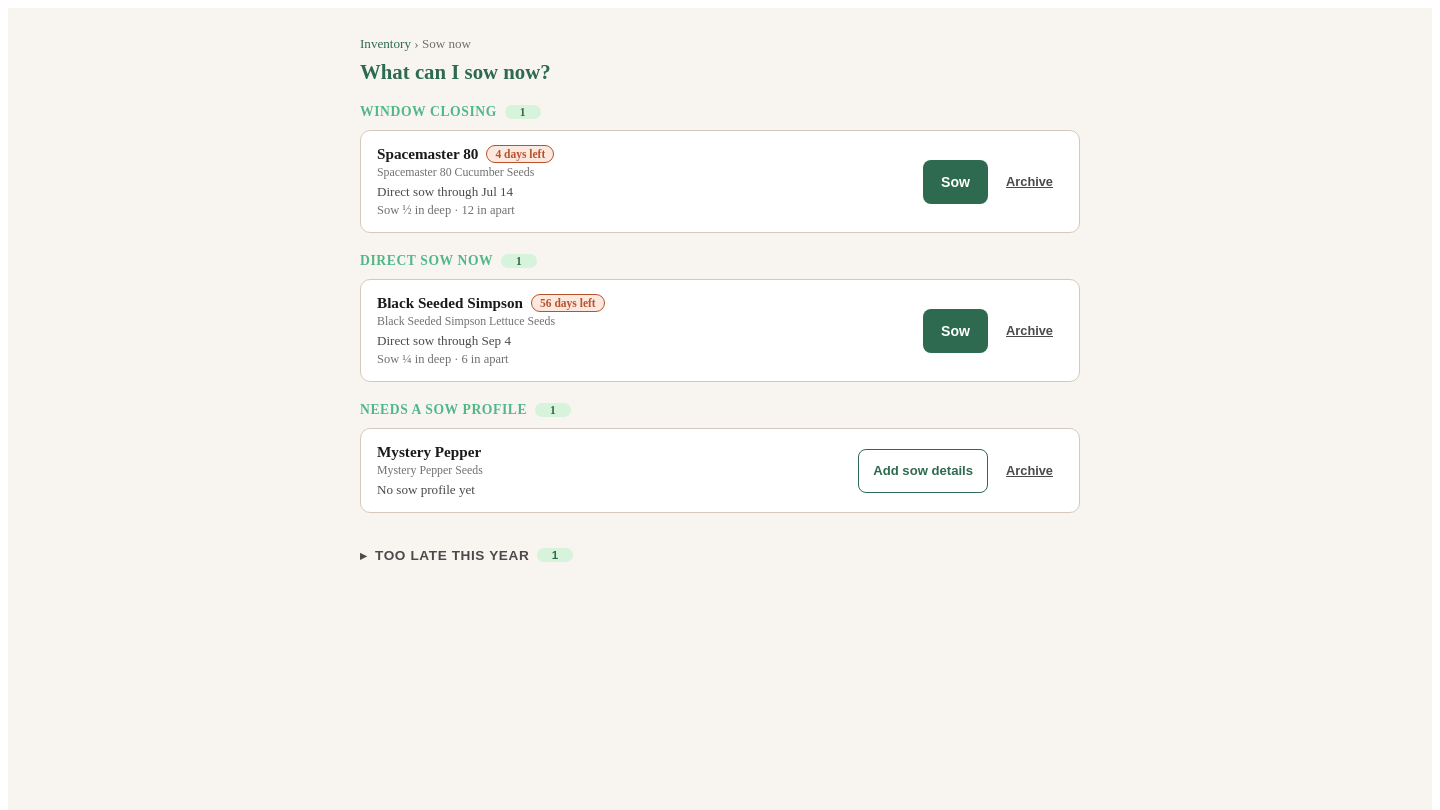
Test: SowNow — Sow sheet embeds the canonical PlantingEditor (orphan-safe) › opens the pre-seeded editor and POSTs /api/plants with a REAL project_id (never null)
Click the button with aria-label "Sow Spacemaster 80". click: [956, 182]
box: [923,160,988,204]
(page scrolled)
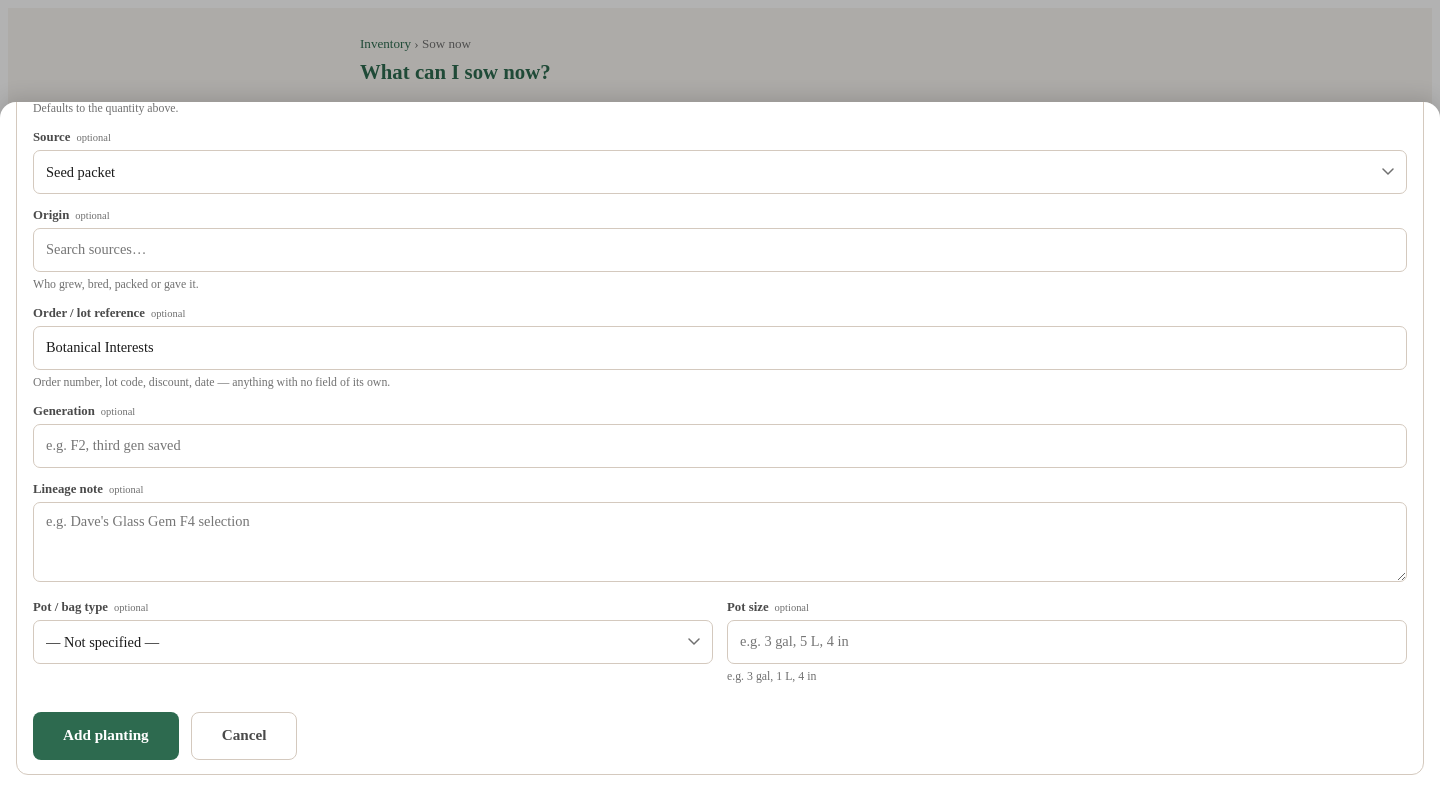
Click the button "Add planting". click: [106, 736]
box: [33,712,179,760]
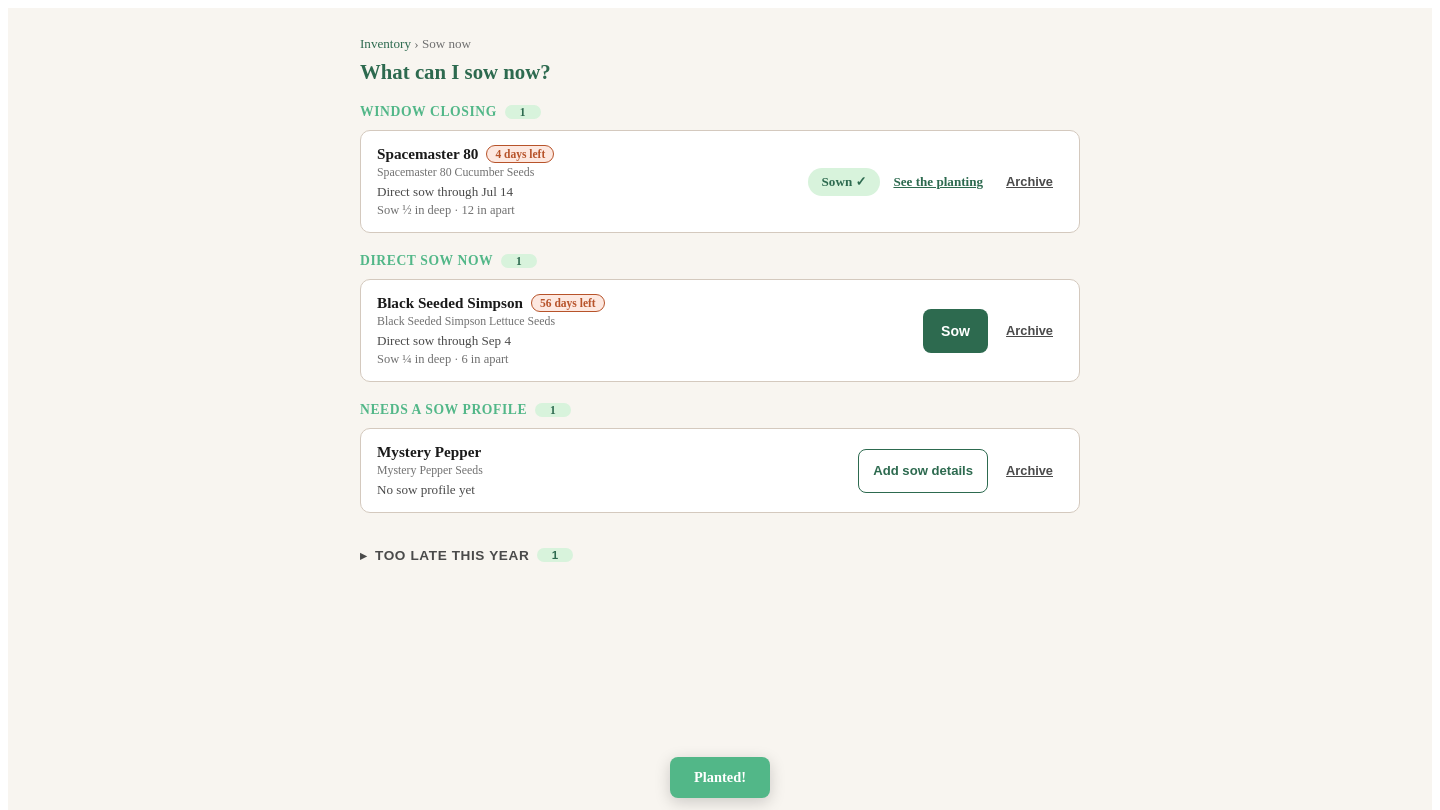
Expected: the text "Sown ✓" is shown, [808,168,880,196]
Expected: the text "Planted!" is shown, [670,757,770,798]
